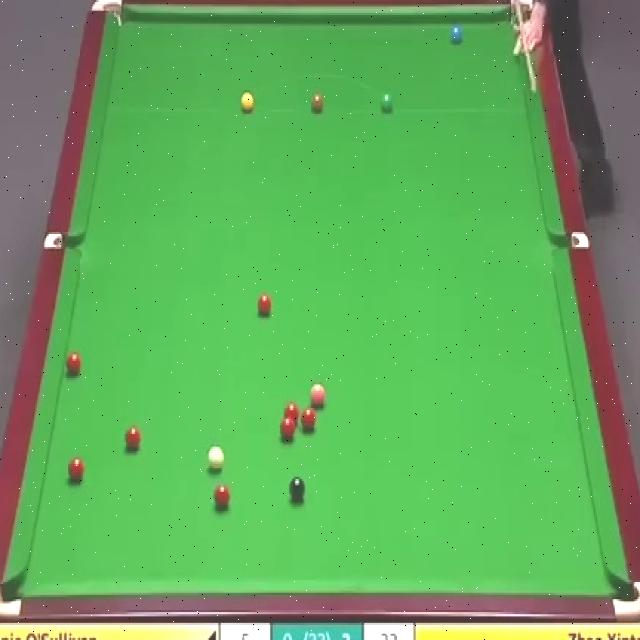black-ball: (288, 476, 306, 504)
blue-ball: (448, 20, 465, 46)
brown-ball: (310, 94, 325, 115)
green-ball: (380, 92, 394, 116)
pink-ball: (307, 383, 326, 409)
red-ball: (67, 456, 86, 485), (213, 482, 231, 510), (124, 427, 141, 455), (256, 292, 274, 318), (64, 352, 81, 378), (300, 407, 318, 431), (282, 402, 300, 425), (279, 418, 296, 442)
white-ball: (208, 445, 225, 471)
yellow-ball: (240, 92, 255, 114)
